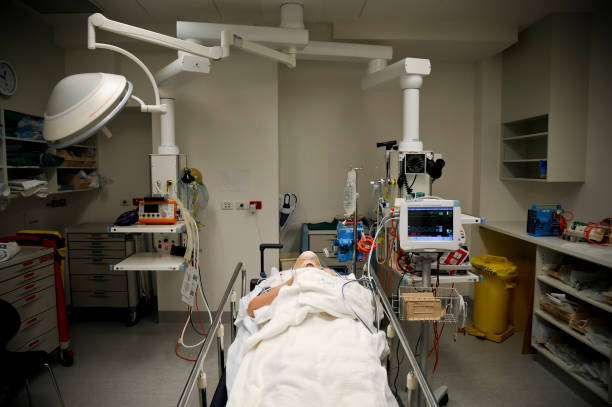bedside_monitor: (396, 197, 465, 252)
cabinet: (492, 27, 589, 186), (1, 109, 108, 195)
chair: (1, 294, 68, 407)
counter: (486, 206, 609, 405)
countertop: (487, 218, 612, 254)
electrosurgical_unit: (135, 197, 180, 226)
iv_pole: (345, 165, 365, 273)
medical_drawer: (1, 241, 72, 371), (63, 224, 143, 327)
operating_bed: (186, 236, 411, 407)
patient: (245, 249, 371, 407)
surgical_light: (40, 70, 143, 154)
table: (297, 222, 373, 264)
waste_bin: (475, 251, 520, 344)
